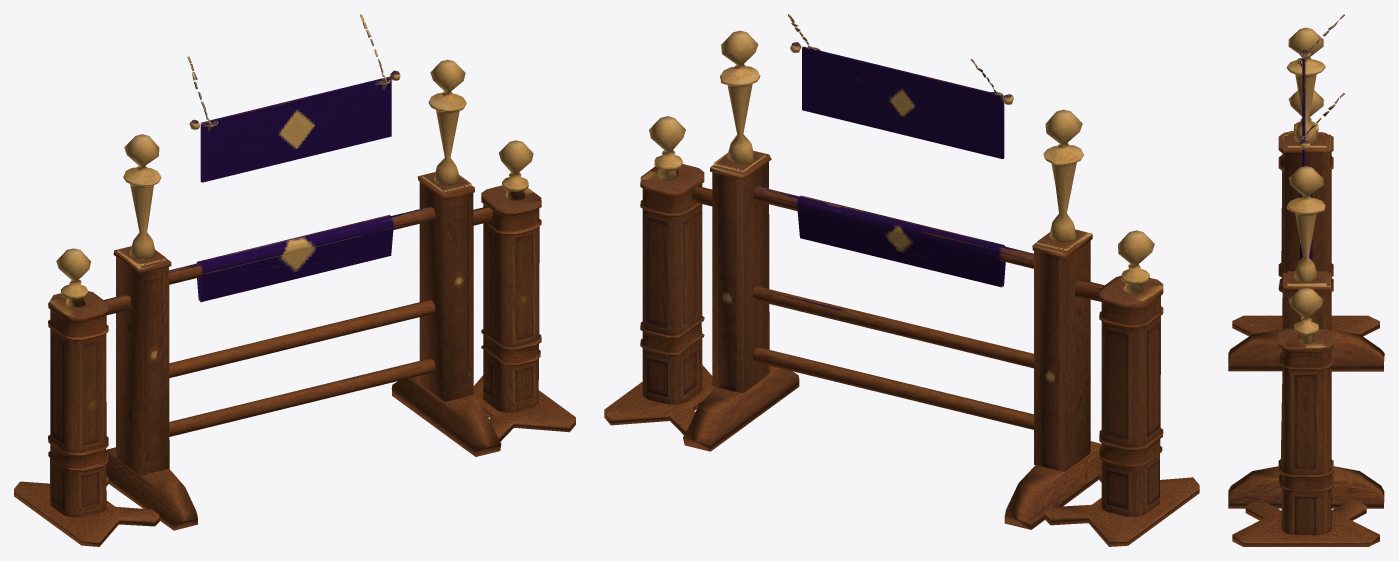
File: jump-hurdle.glb
3 renders of one model, left to right at view 1: azimuth 30°, elevation 25°; view 2: azimuth 150°, elevation 25°; view 3: azimuth 270°, elevation 25°, orthographic. The views are drawn at different scales.
Bounding box in the file's own units: 0.9575 × 0.7598 × 0.2822.
1 material, 1 textured.
